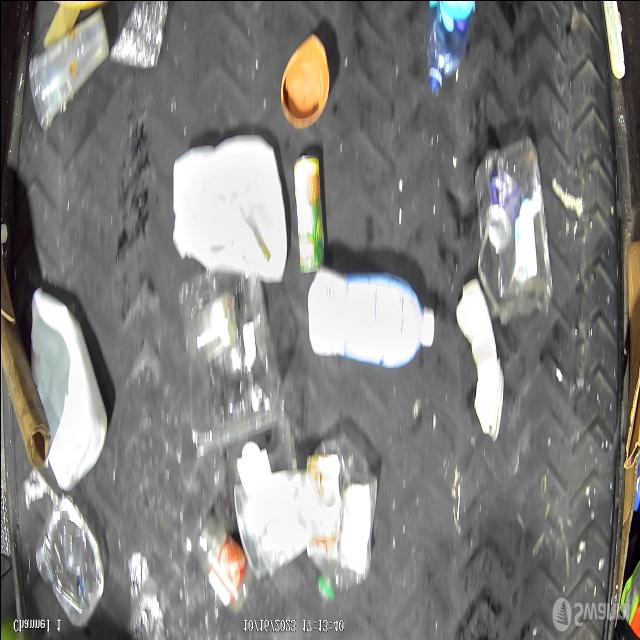can: (294, 142, 326, 278)
milk_jug: (170, 127, 286, 280), (29, 287, 106, 486)
plastic_bottle: (303, 425, 381, 602), (306, 264, 434, 366), (420, 0, 485, 93)
